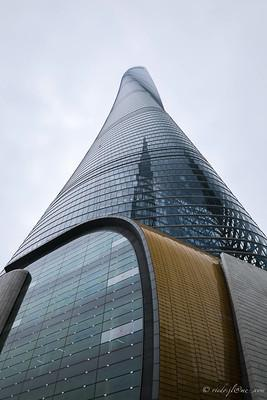building: (5, 63, 267, 400)
